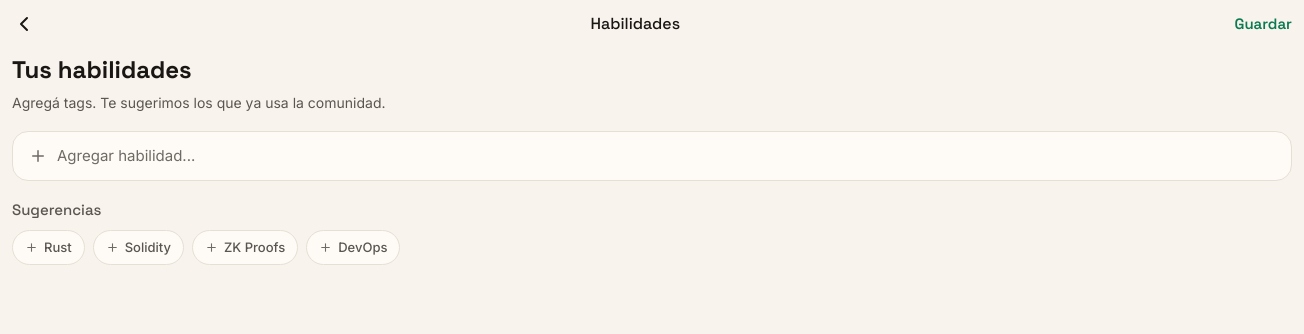
Test: EditSkills › adds a suggestion to the selected skills when clicked
What coordinates should you click on to do the following:
click the button with aria-label "Agregar Rust"
I would click on:
 (48, 247)
Its box is [12,230,85,265].
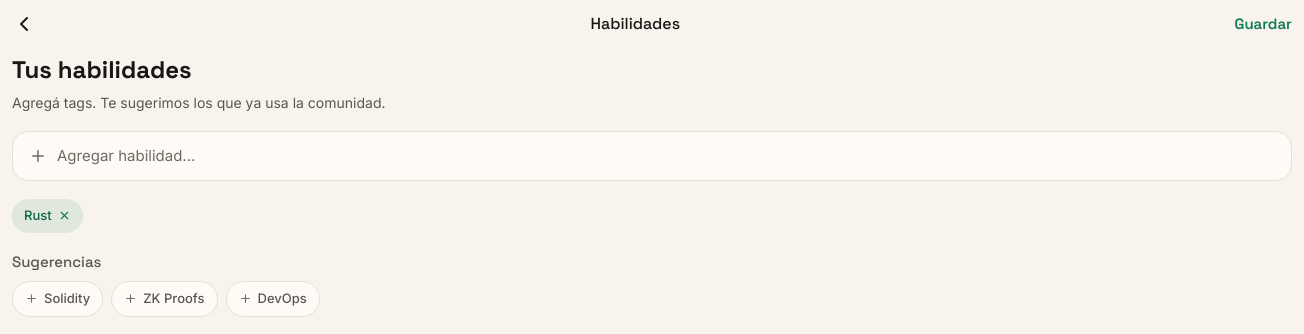
Result: the button with aria-label "Quitar Rust" is shown at [12,199,83,232]
